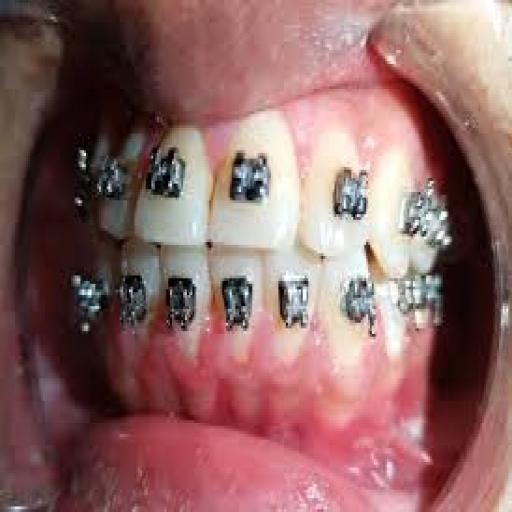correct_brace: (142, 140, 190, 218), (327, 157, 371, 230), (216, 266, 256, 346), (227, 146, 277, 206), (272, 264, 310, 338), (342, 271, 379, 343), (163, 272, 201, 338)
incorrect_brace: (211, 110, 301, 259), (261, 244, 321, 380)
